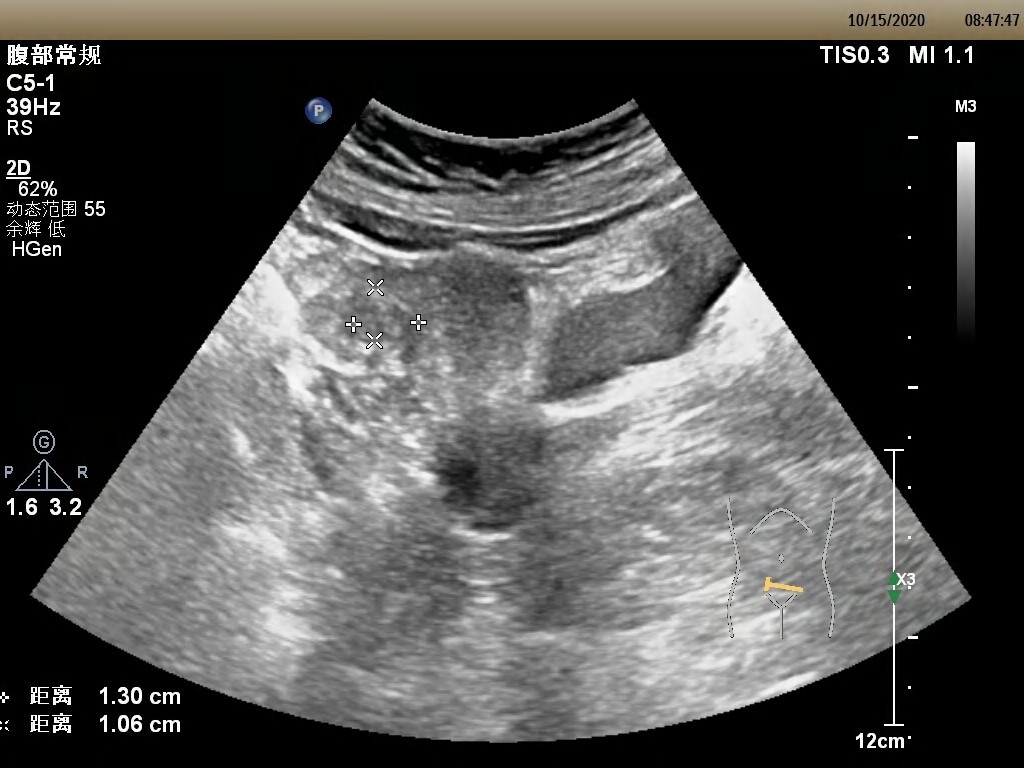肌瘤: (349, 293, 415, 341)
